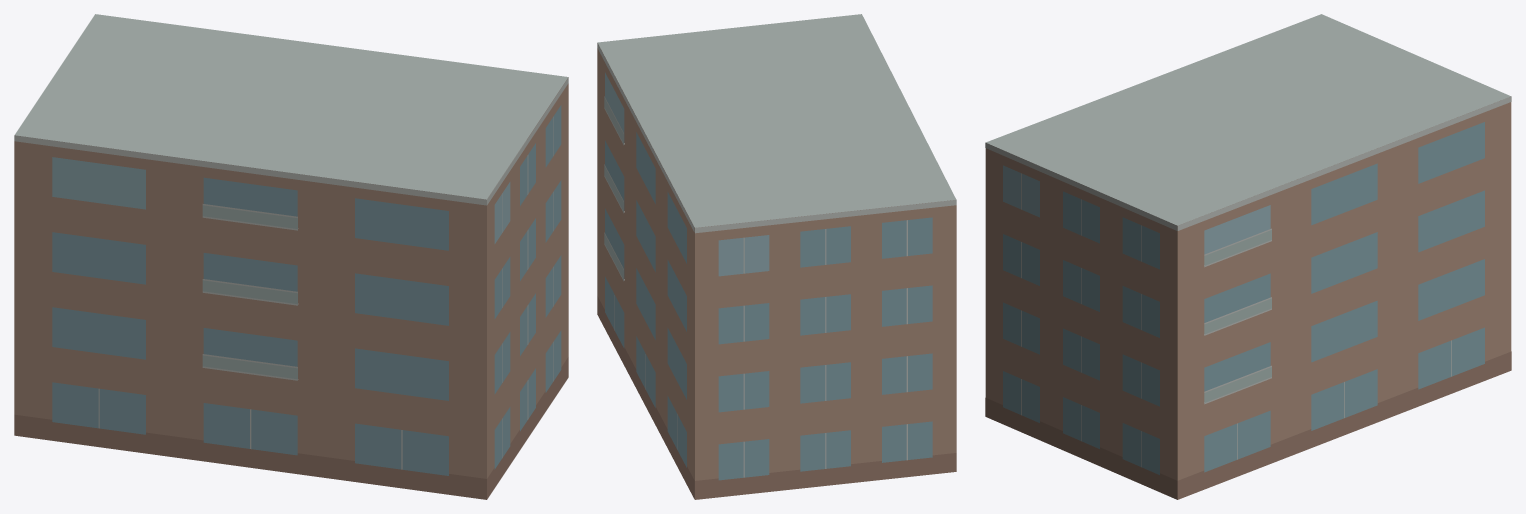
File: survey-upis-32699939.glb
The picture shows the model from 3 angles, left to right: view 1: azimuth 30°, elevation 25°; view 2: azimuth 150°, elevation 25°; view 3: azimuth 270°, elevation 25°; orthographic projection. The views are drawn at different scales.
Visible parts, largest first — view 1: survey-upis-32699939.tmp; view 2: survey-upis-32699939.tmp; view 3: survey-upis-32699939.tmp.
Boxes of the visible parts, box(x1,y1,x2,y2) form: survey-upis-32699939.tmp: box(14, 14, 568, 499); survey-upis-32699939.tmp: box(597, 14, 956, 499); survey-upis-32699939.tmp: box(985, 14, 1511, 499).
Size of the model in its own units: 20.21 by 12.2 by 21.21.
